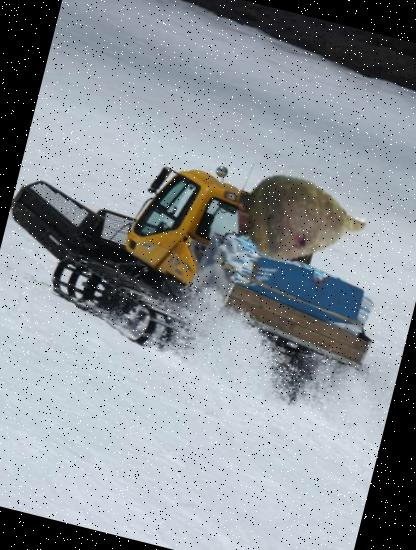Beetroot: (220, 135, 386, 301)
